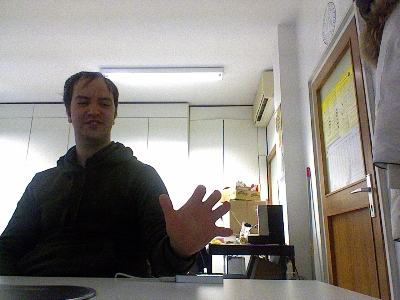布: (157, 183, 234, 258)
